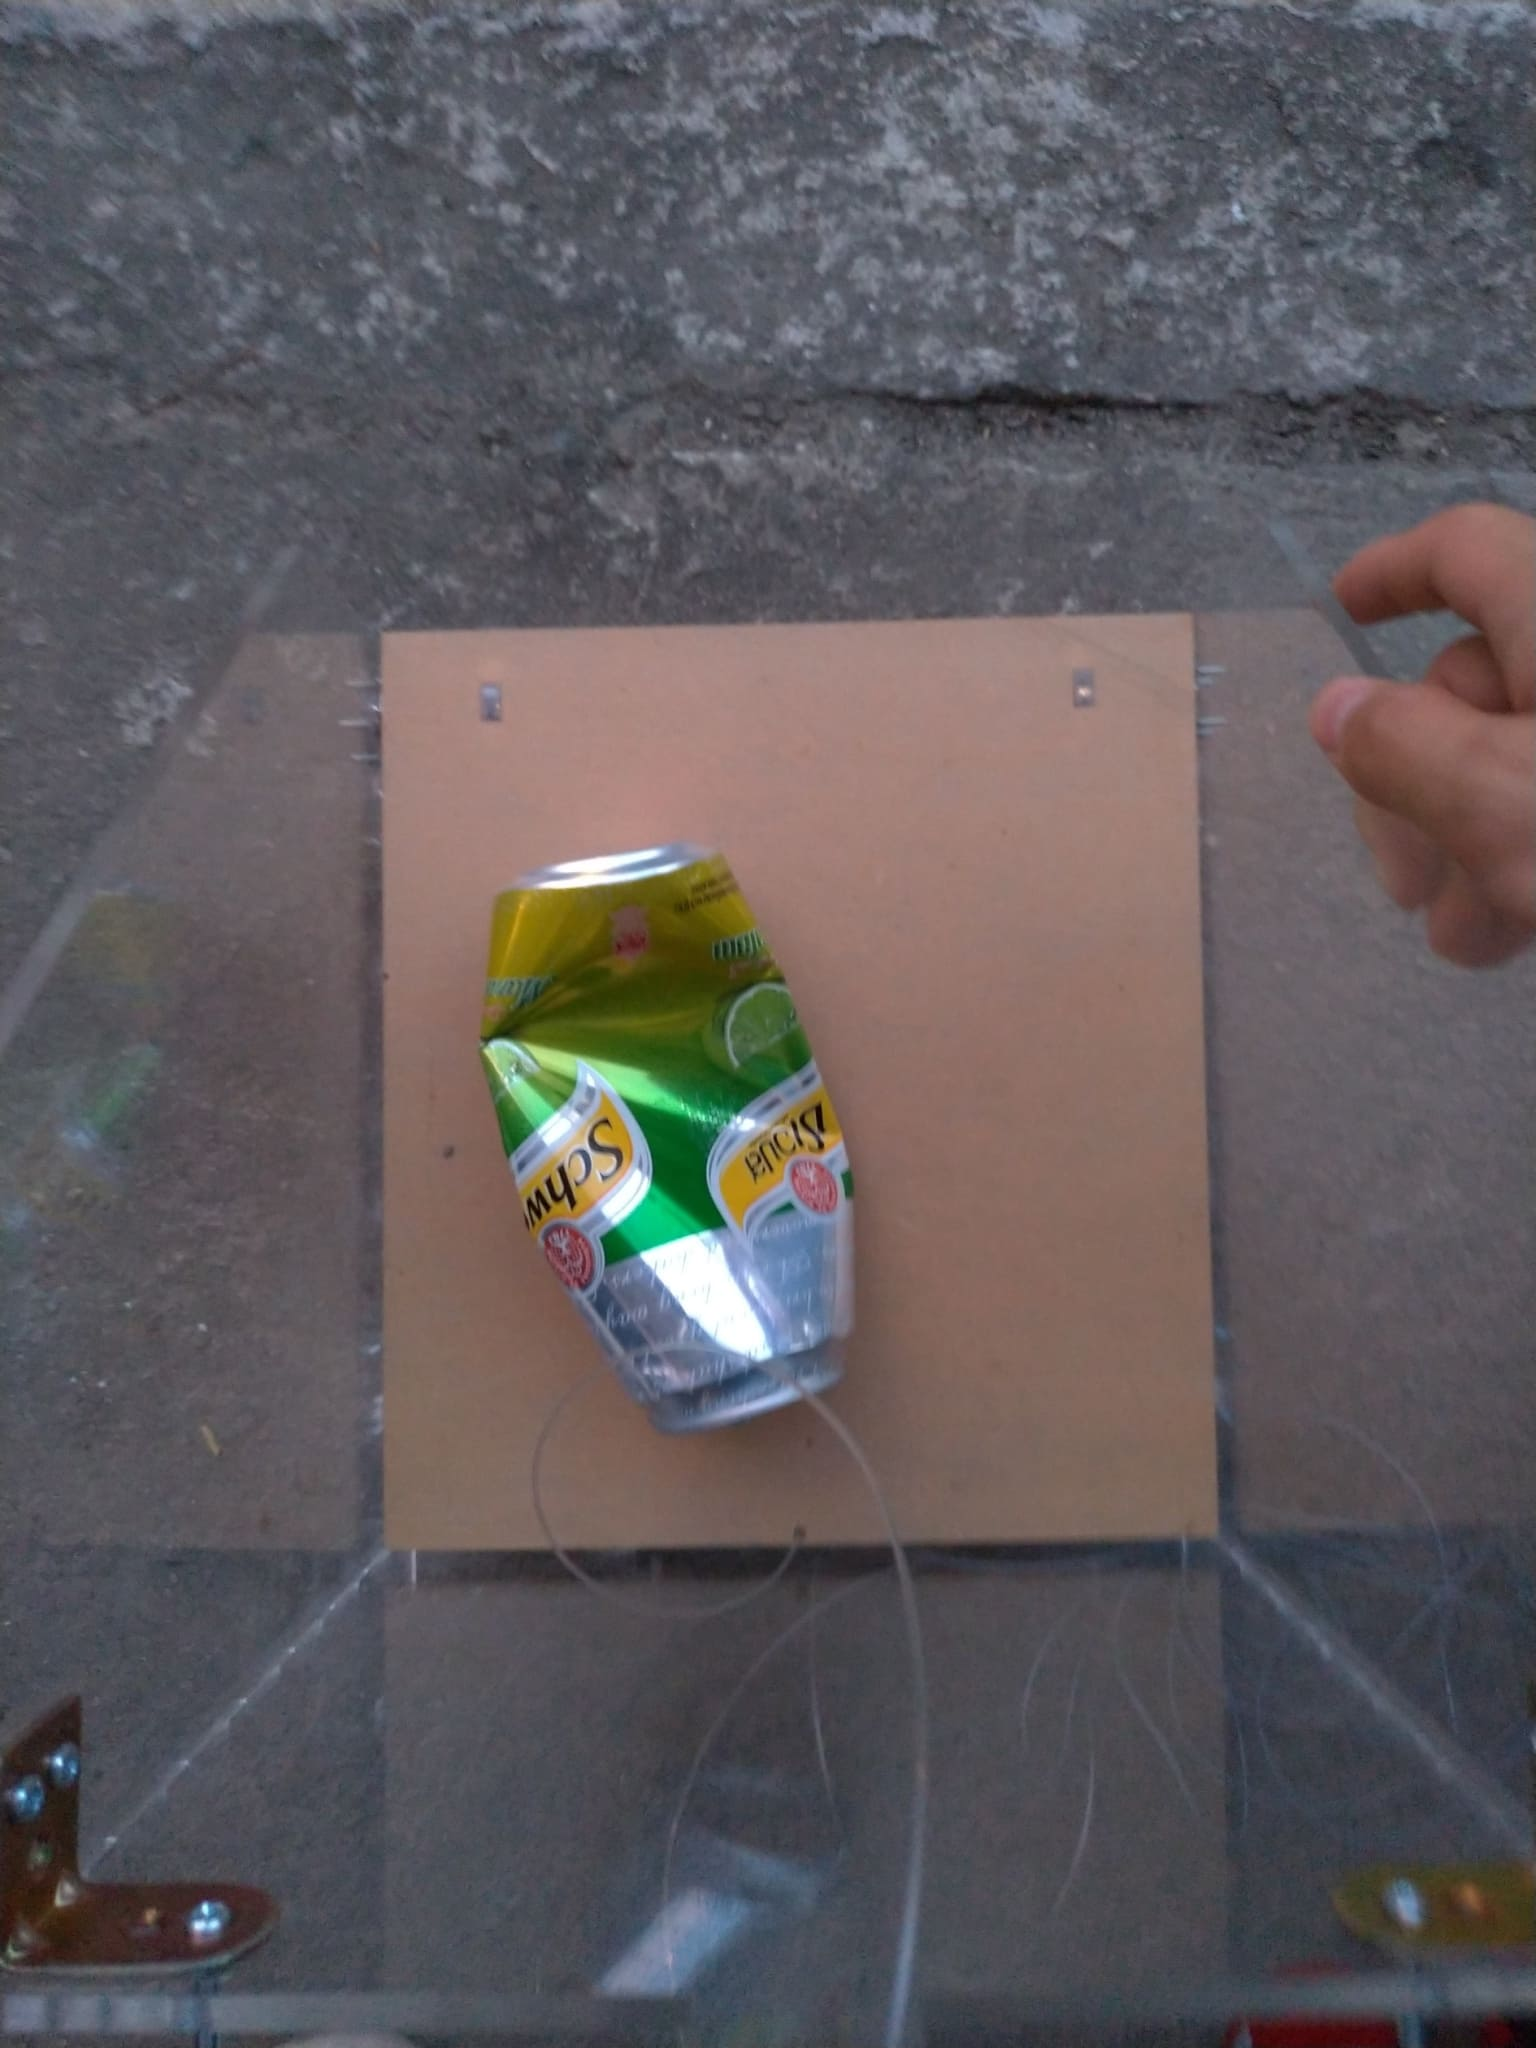AlCan: (482, 848, 862, 1429)
